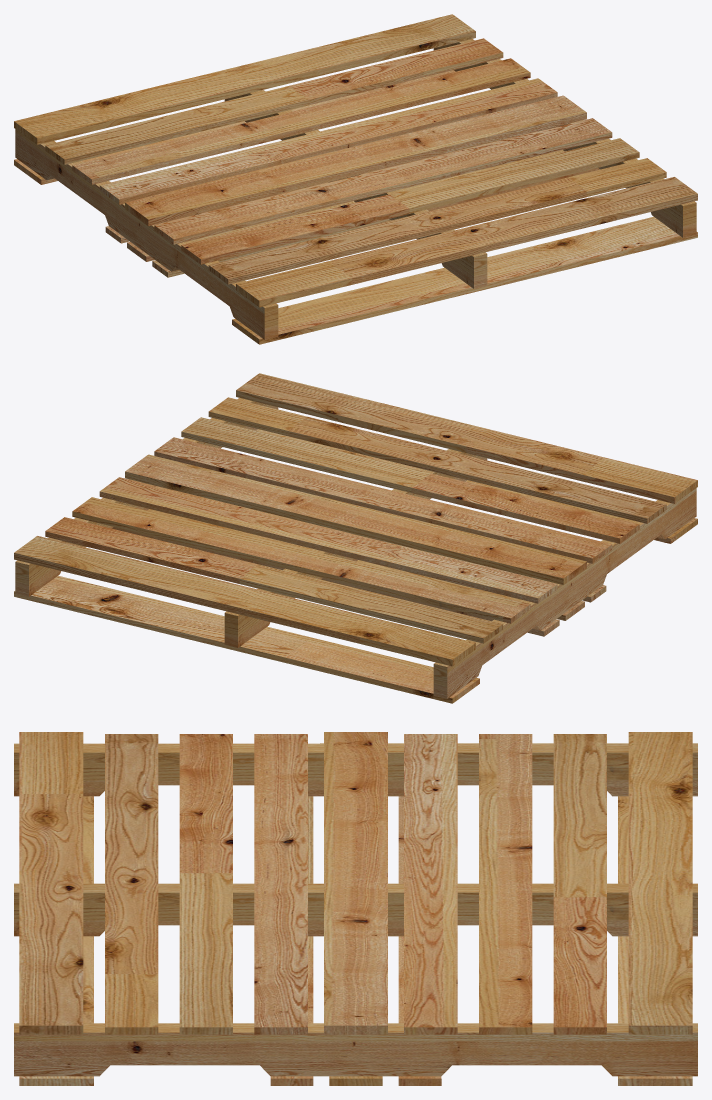
File: Cardboard_boxG.FBX
3 renders of one model, top to bottom at view 1: azimuth 30°, elevation 25°; view 2: azimuth 150°, elevation 25°; view 3: azimuth 270°, elevation 25°, orthographic. The views are drawn at different scales.
Parts seen in each view (by area): view 1: Cardboard_boxG; view 2: Cardboard_boxG; view 3: Cardboard_boxG.
Boxes of the visible parts, box(x1,y1,x2,y2) form: Cardboard_boxG: box(14, 14, 697, 344); Cardboard_boxG: box(14, 373, 697, 703); Cardboard_boxG: box(14, 732, 697, 1085).
Size of the model in its own units: 84.92 by 8.13 by 83.62.
